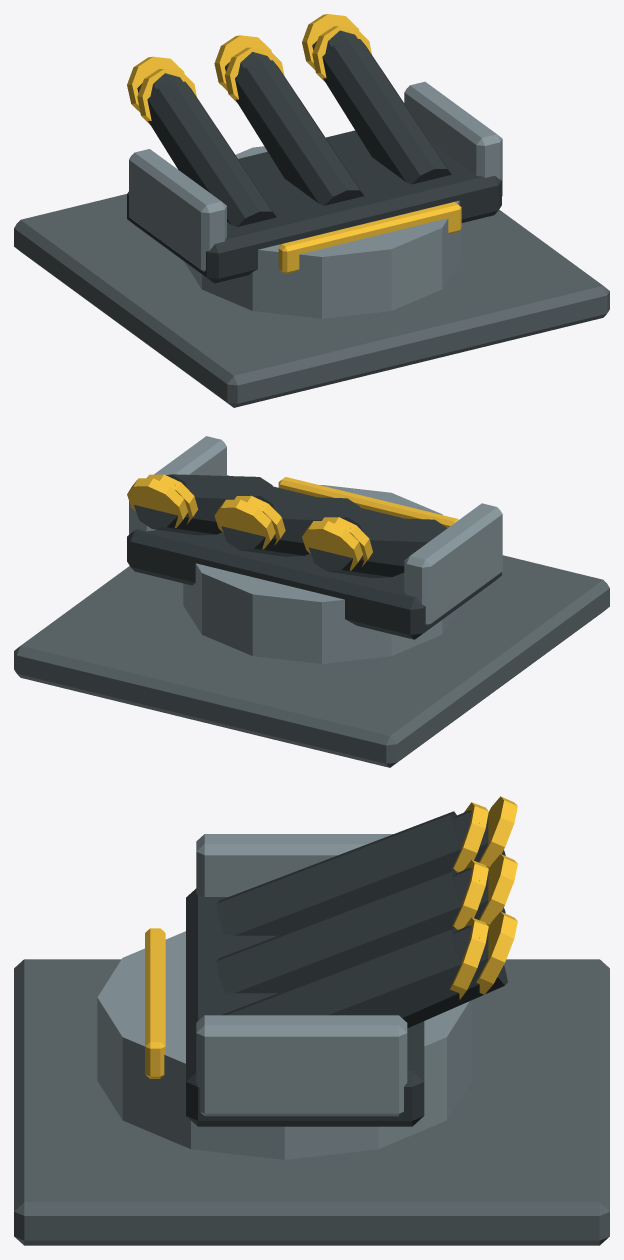
Rendered from MOD_AswLauncher.fbx.
The picture shows the model from 3 angles, top to bottom: view 1: azimuth 30°, elevation 25°; view 2: azimuth 150°, elevation 25°; view 3: azimuth 270°, elevation 25°; orthographic projection. The views are drawn at different scales.
Visible parts, largest first — view 1: ModuleDeck, FixedPedestal, LauncherBed, AswTube_03, AswTube_02, AswTube_01, SideCheek, SideCheek.001, SafetyStripe, AswTubeRim_06, AswTubeRim_05, AswTubeRim_04 (+6 smaller); view 2: ModuleDeck, FixedPedestal, LauncherBed, SideCheek, AswTube_01, AswTube_02, AswTube_03, SideCheek.001, SafetyStripe, AswTube_04, AswTubeRim_05, AswTube_05 (+6 smaller); view 3: ModuleDeck, FixedPedestal, SideCheek.001, AswTube_01, AswTube_02, LauncherBed, AswTube_03, SideCheek, AswTube_06, SafetyStripe, AswTube_05, AswTube_04 (+6 smaller).
Boxes of the visible parts, left/top/right/bottom form: ModuleDeck: left=14, top=194, right=609, bottom=407; FixedPedestal: left=184, top=146, right=460, bottom=318; LauncherBed: left=127, top=130, right=501, bottom=283; AswTube_03: left=322, top=38, right=451, bottom=184; AswTube_02: left=235, top=60, right=363, bottom=205; AswTube_01: left=147, top=81, right=276, bottom=226; SideCheek: left=129, top=149, right=226, bottom=271; SideCheek.001: left=404, top=81, right=502, bottom=196; SafetyStripe: left=278, top=202, right=461, bottom=274; AswTubeRim_06: left=302, top=14, right=359, bottom=69; AswTubeRim_05: left=214, top=35, right=271, bottom=91; AswTubeRim_04: left=127, top=56, right=184, bottom=112; ModuleDeck: left=14, top=555, right=609, bottom=767; FixedPedestal: left=183, top=485, right=459, bottom=663; LauncherBed: left=127, top=475, right=501, bottom=639; SideCheek: left=404, top=503, right=502, bottom=626; AswTube_01: left=341, top=517, right=447, bottom=557; AswTube_02: left=253, top=495, right=363, bottom=535; AswTube_03: left=166, top=474, right=276, bottom=514; SideCheek.001: left=129, top=436, right=226, bottom=534; SafetyStripe: left=278, top=477, right=458, bottom=527; AswTube_04: left=309, top=528, right=407, bottom=578; AswTubeRim_05: left=214, top=499, right=275, bottom=549; AswTube_05: left=221, top=526, right=309, bottom=556; ModuleDeck: left=14, top=959, right=609, bottom=1245; FixedPedestal: left=97, top=931, right=471, bottom=1159; SideCheek.001: left=196, top=1015, right=407, bottom=1116; AswTube_01: left=216, top=811, right=460, bottom=935; AswTube_02: left=216, top=869, right=460, bottom=993; LauncherBed: left=186, top=888, right=424, bottom=1126; AswTube_03: left=221, top=926, right=460, bottom=1015; SideCheek: left=196, top=834, right=393, bottom=896; AswTube_06: left=359, top=925, right=507, bottom=1028; SafetyStripe: left=145, top=928, right=165, bottom=1078; AswTube_05: left=290, top=868, right=505, bottom=988; AswTube_04: left=290, top=810, right=505, bottom=930.
Size of the model in its own units: 175 by 86.24 by 175.
